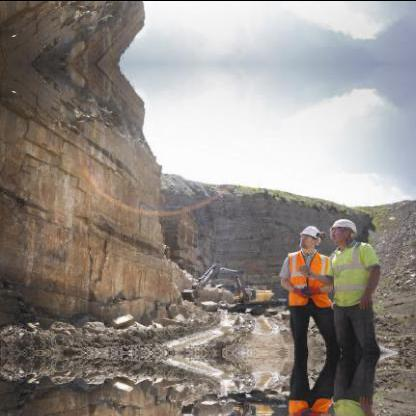Helmet: (327, 214, 358, 244), (297, 220, 322, 250)
